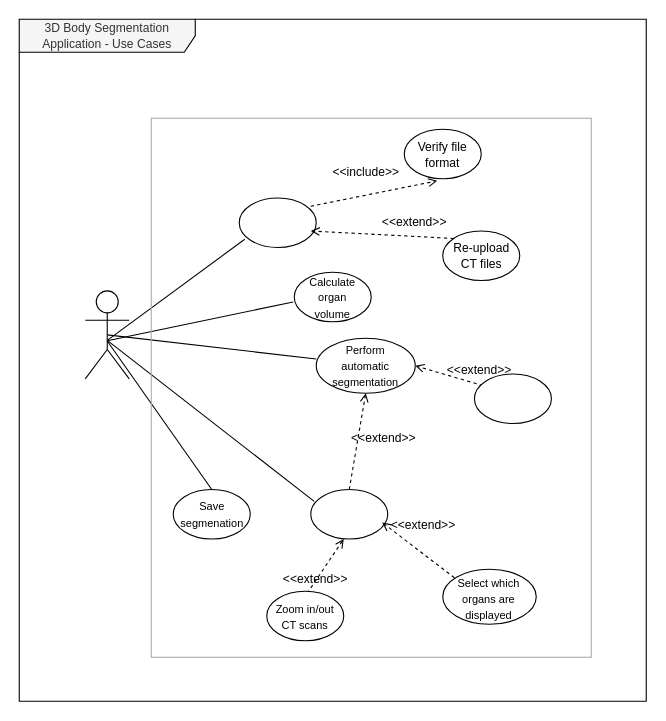
The diagram is 666 pixels wide and 721 high, and some of its shapes have lost their labels. Here are the shapes that lost their labels. From the top down, the centre of each, then its label:
At point (277, 222): "Upload CT Files".
At point (106, 334): "Doctor".
At point (512, 398): "Compare segmentation results".
At point (349, 513): "View segmentation results".
